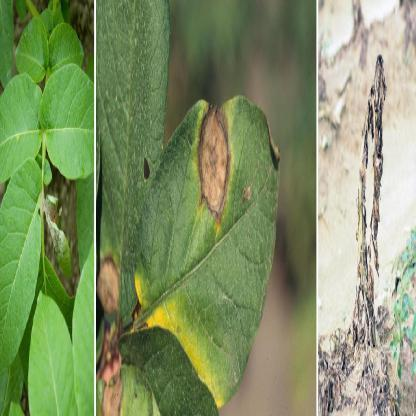Potato leaf: (121, 75, 284, 415)
